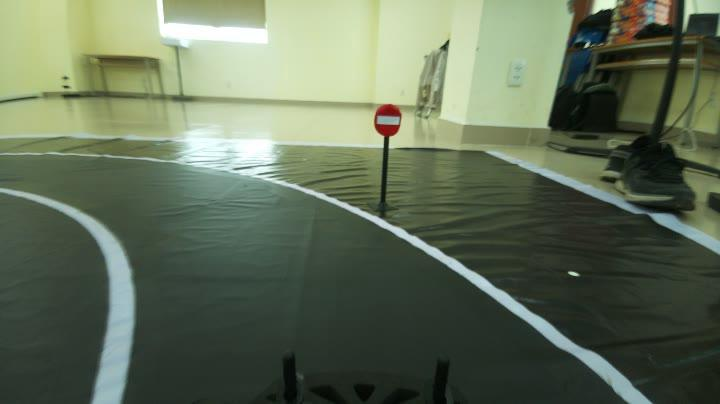no_entry: (369, 102, 410, 150)
